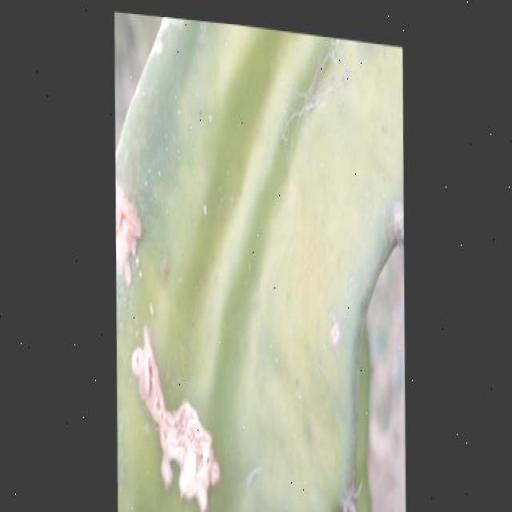stemcanker: (324, 294, 350, 372), (132, 248, 148, 286), (144, 292, 160, 326)
